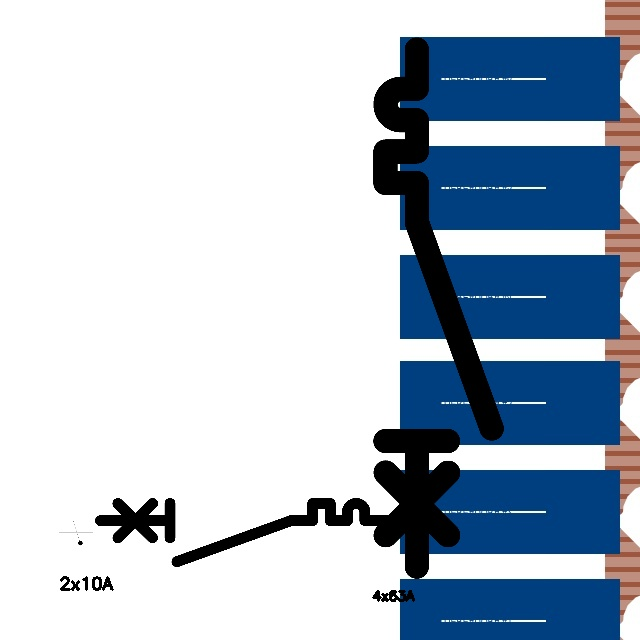interruptor_termomagnetico: (372, 36, 505, 580), (93, 496, 394, 569)
